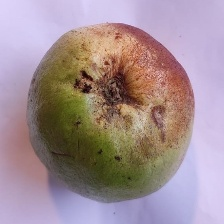guava: (21, 37, 200, 224)
